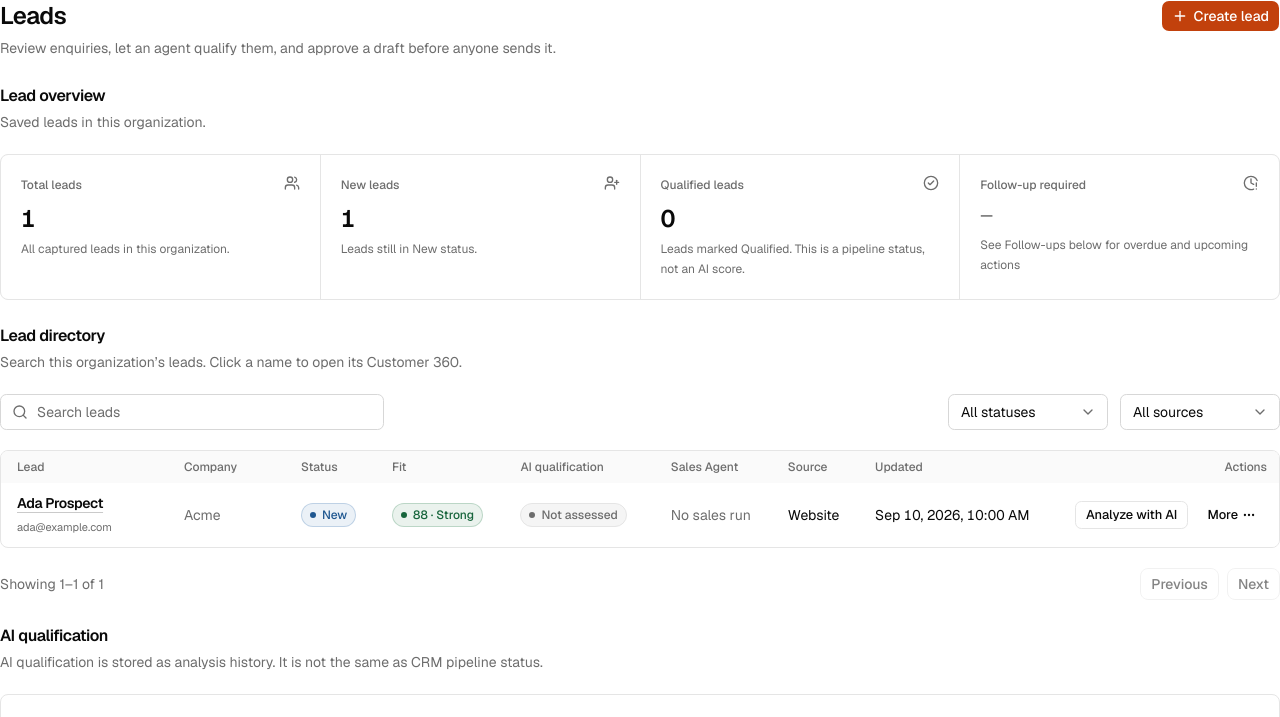
it: Leads page › opens Sales Agent history from the directory
The image size is (1280, 717).
Check: the table is shown, box [1,451,1279,547]
Click the button "More": click(1232, 515) [1196,501,1267,529]
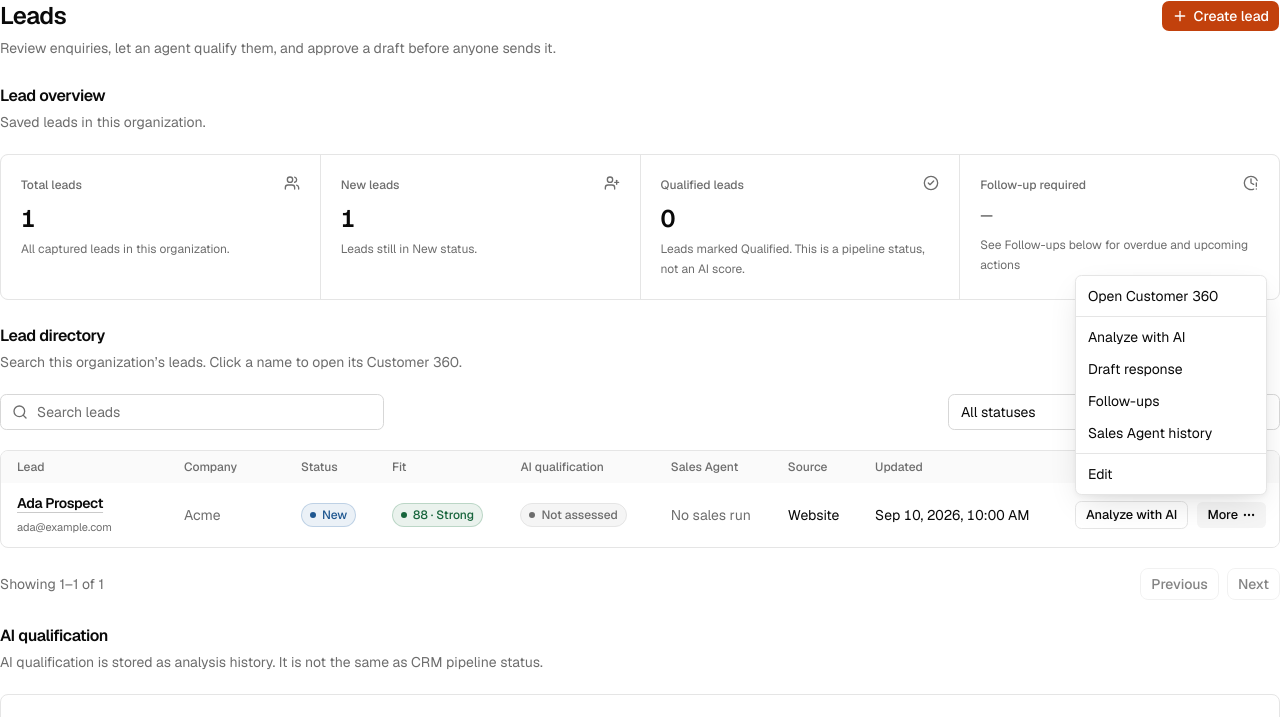
Click the menu item "Sales Agent history": click(1150, 433) [1088,424,1212,442]
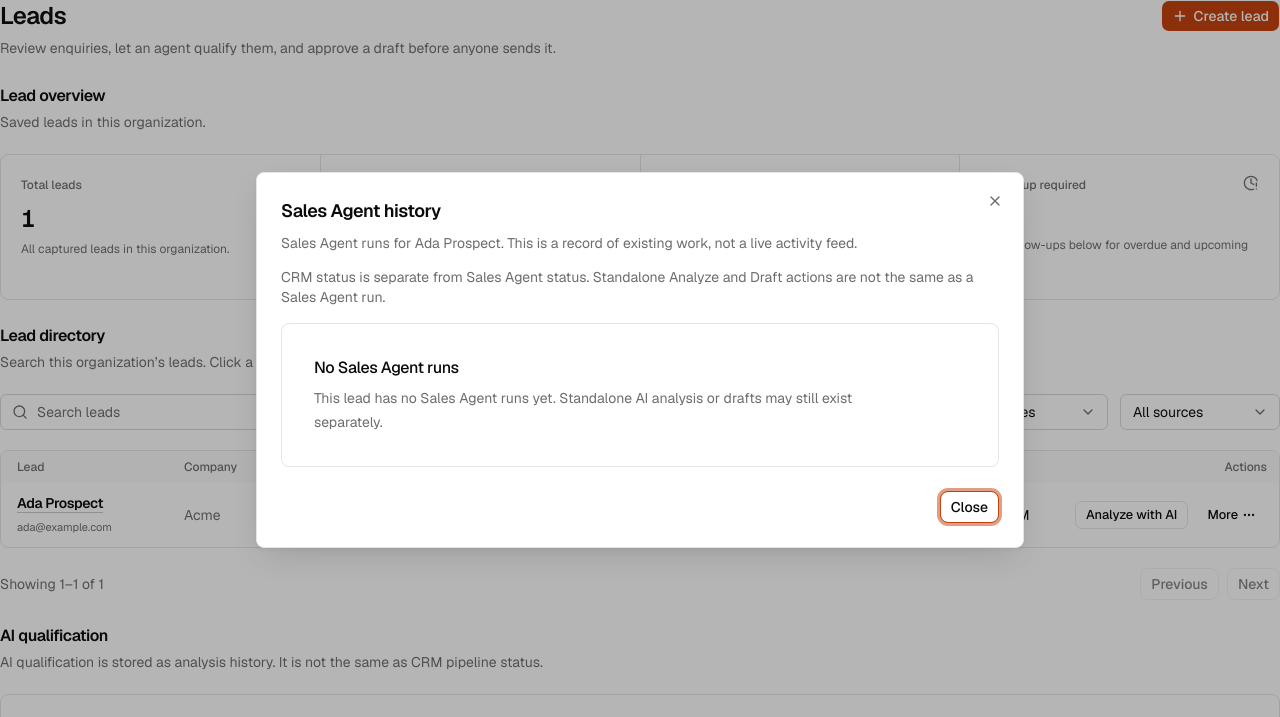
Check: the heading "Sales Agent history" is shown, box [281,199,441,222]
Check: the heading "No Sales Agent runs" is shown, box [314,356,459,380]
